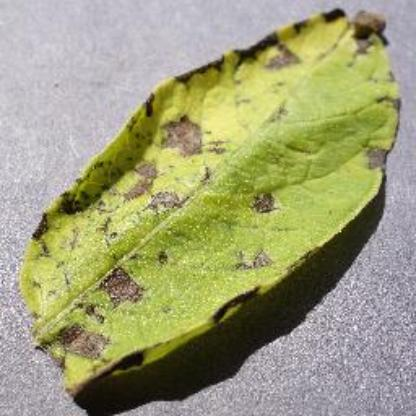Early-Blight: (20, 6, 404, 394)
